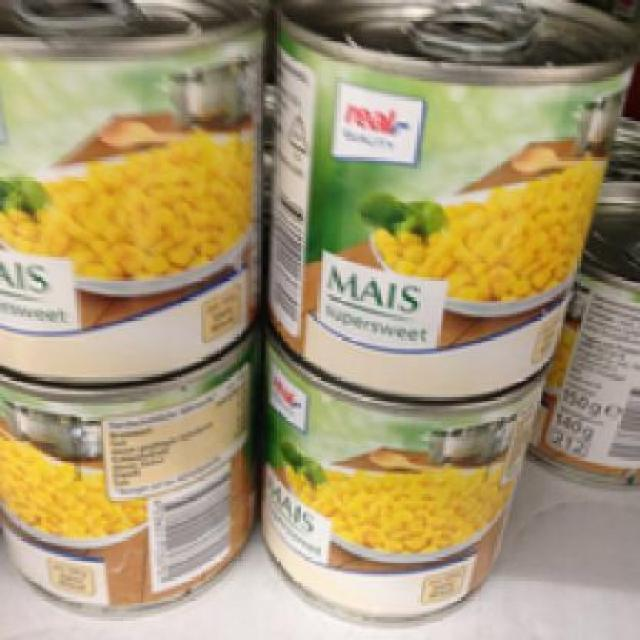Corn: (266, 0, 634, 403), (0, 0, 263, 389), (253, 337, 550, 620), (0, 368, 257, 608)
